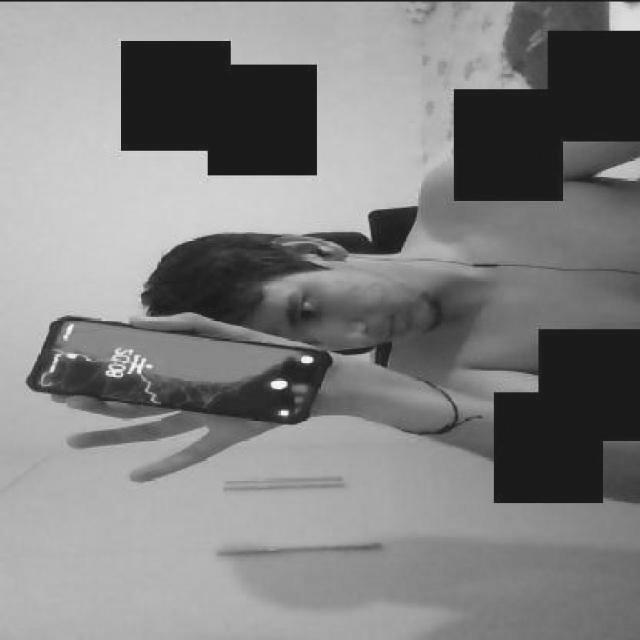fake: (24, 314, 332, 424)
